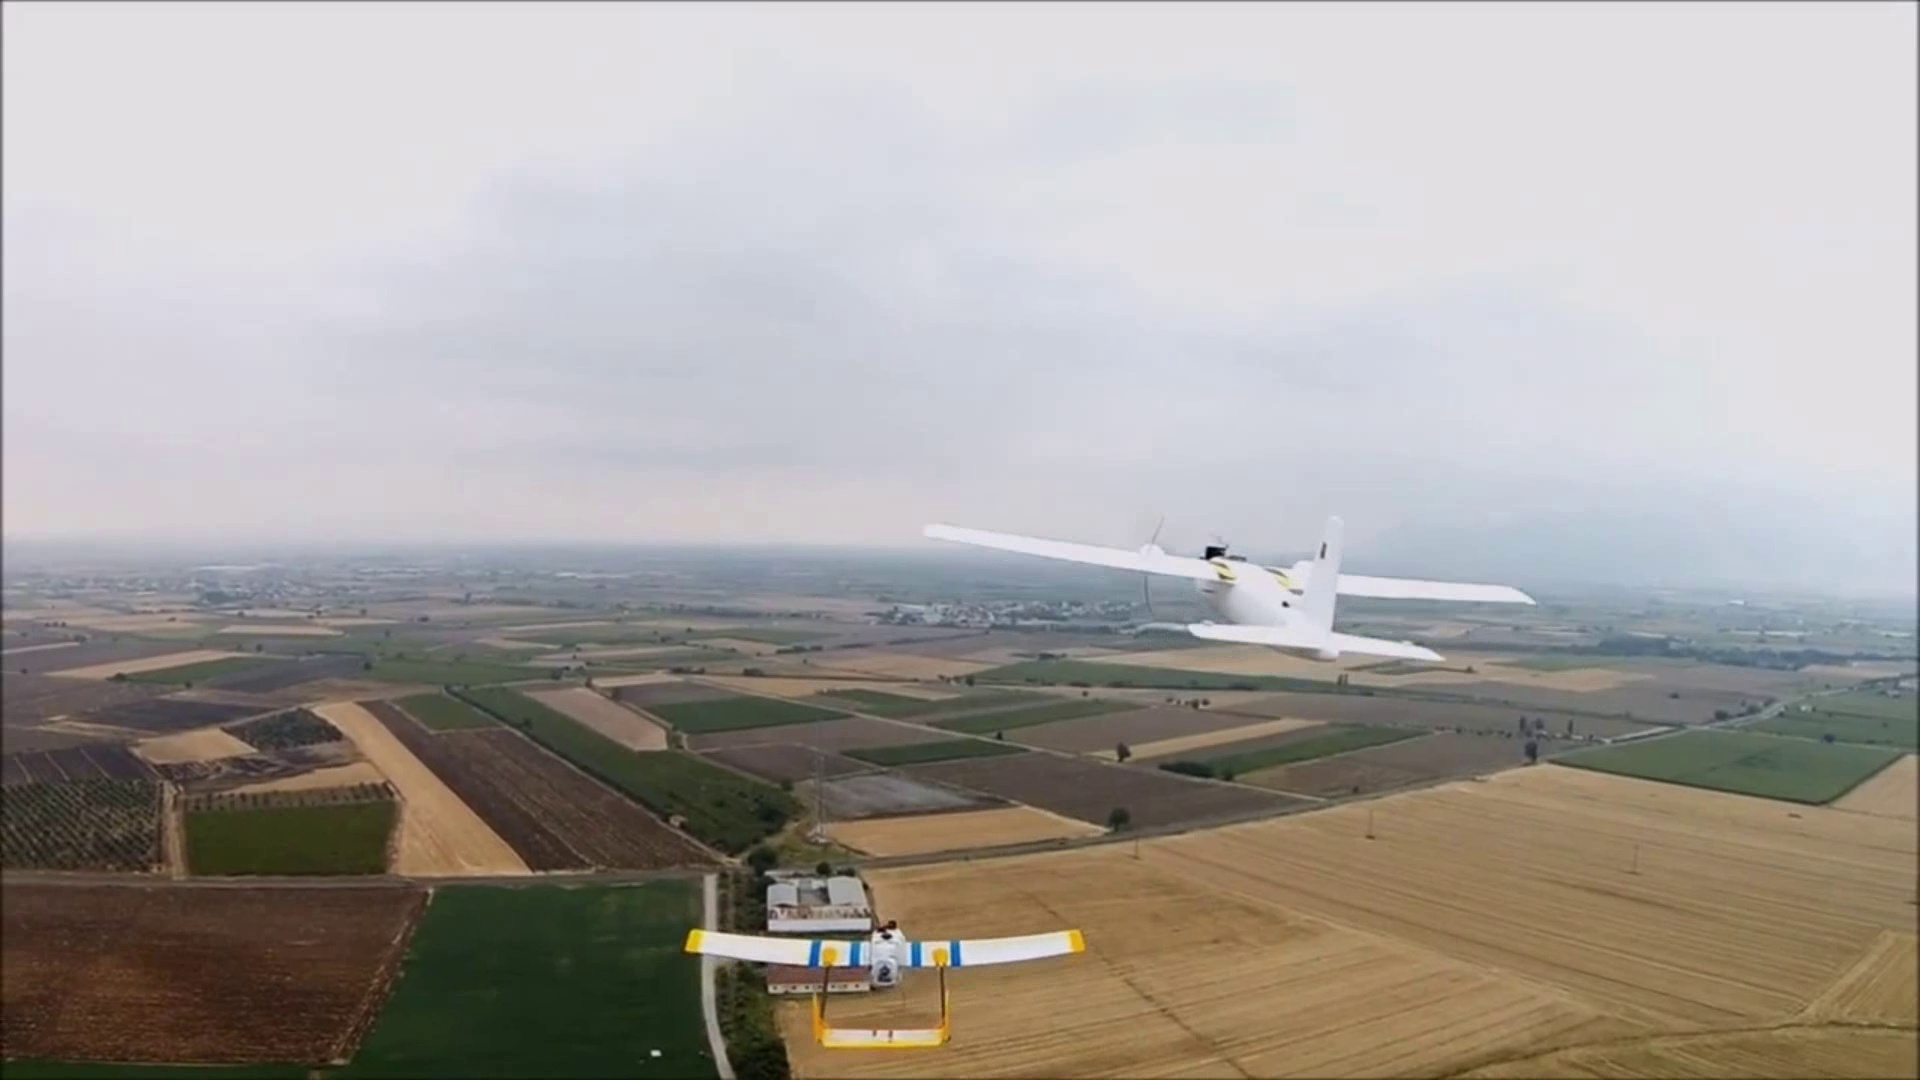airplane: (921, 508, 1493, 672)
